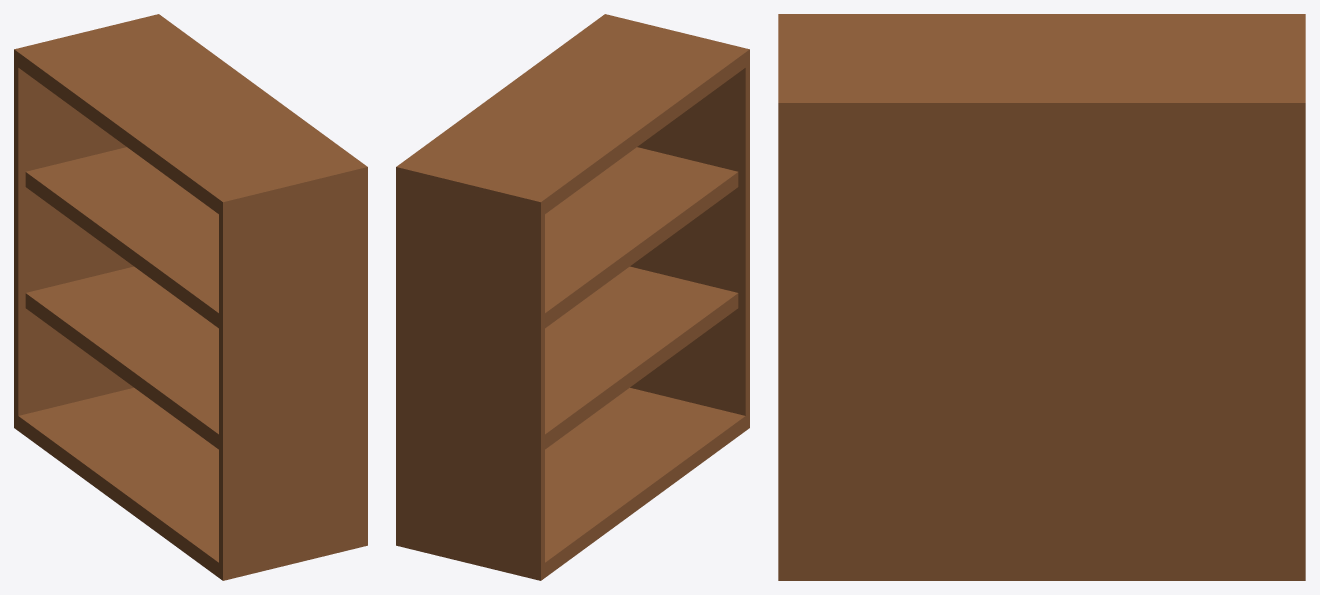
Rendered from LargeObject_Bookshelf.fbx.
3 views of the same model, side by side, from view 1: azimuth 30°, elevation 25°; view 2: azimuth 150°, elevation 25°; view 3: azimuth 270°, elevation 25° (orthographic). The views are drawn at different scales.
Visible parts, largest first — view 1: Bookshelf; view 2: Bookshelf; view 3: Bookshelf.
Part boxes in pixels (x1,y1,x2,y2): Bookshelf: [14, 14, 367, 580]; Bookshelf: [396, 14, 749, 580]; Bookshelf: [778, 14, 1305, 580].
Size of the model in its own units: 20 by 50 by 50.
